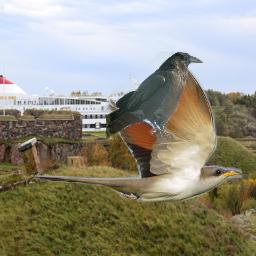Crow: (106, 51, 204, 140)
Cuckoo: (34, 57, 242, 202)
